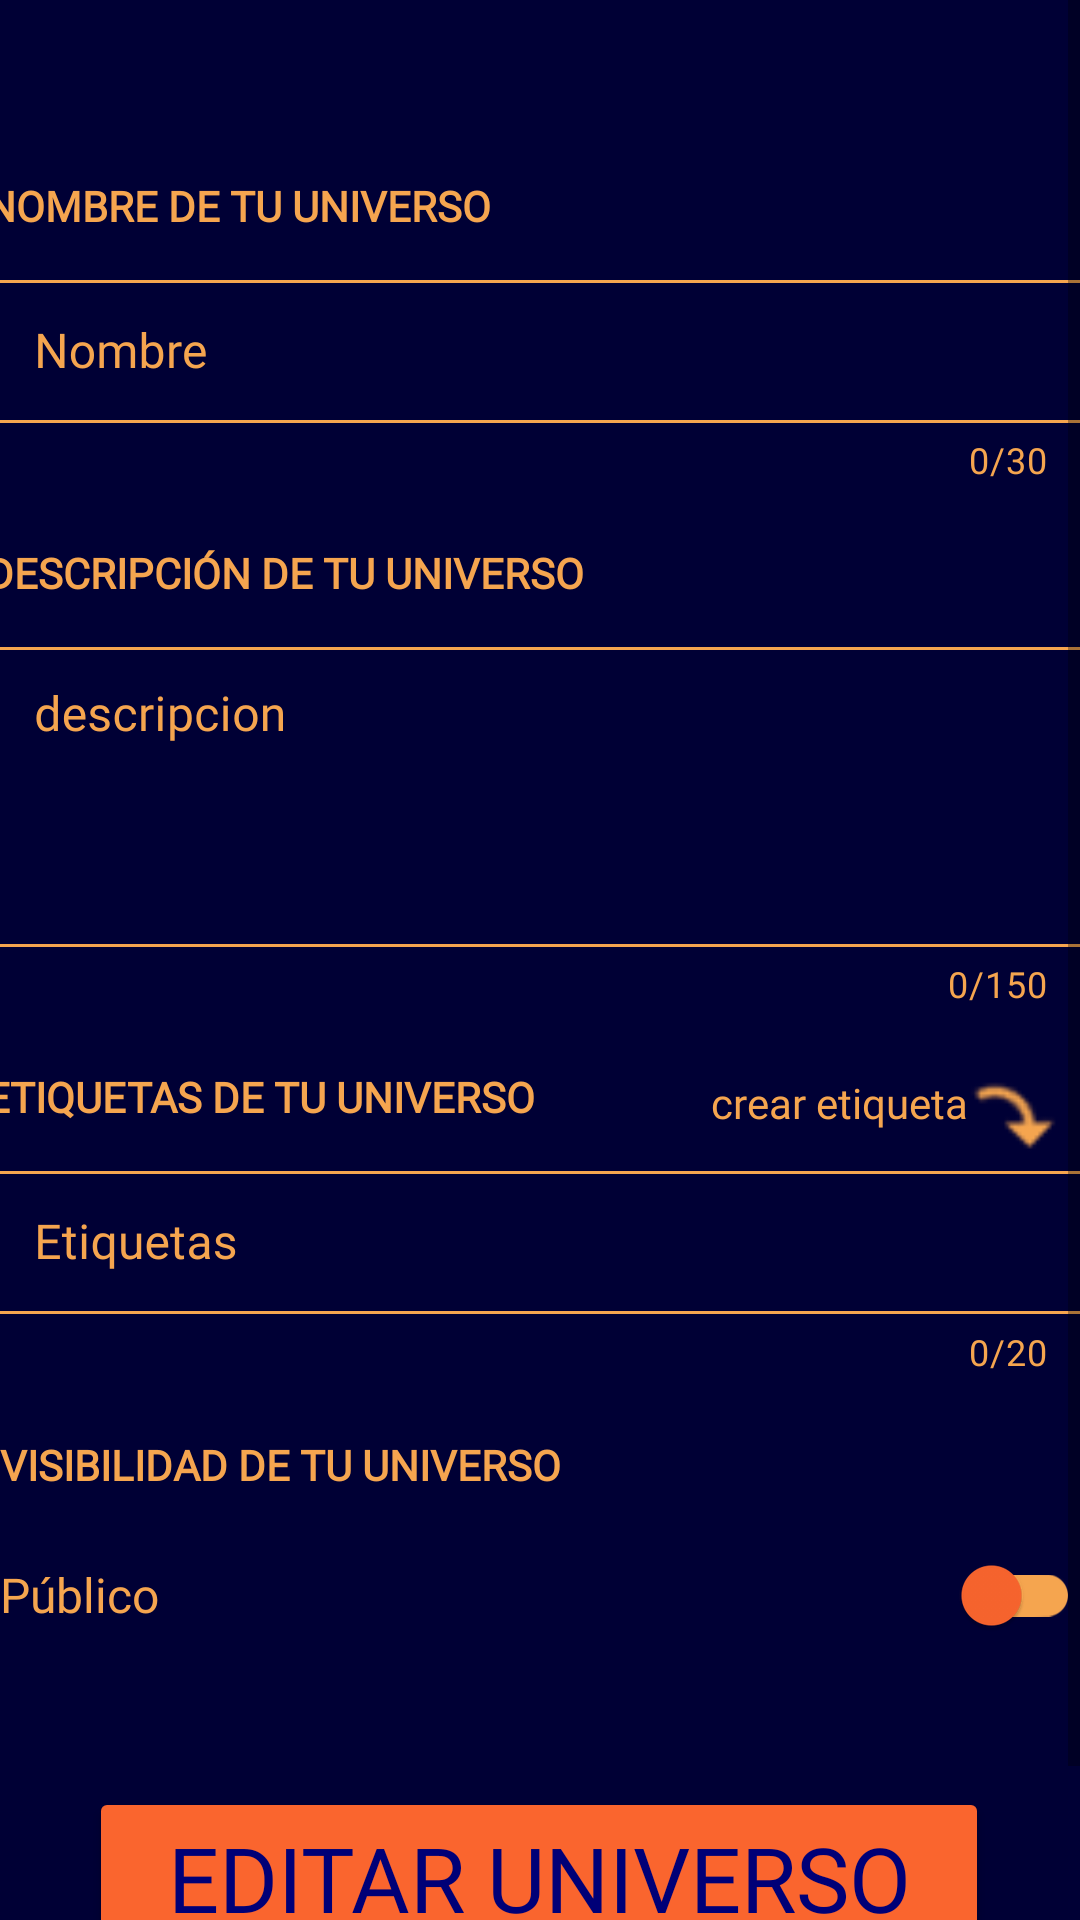

Icons on this 1080×1920 Android screen, each with its box as (x1, y1, x2, y2):
redo: (974, 1084, 1054, 1149)
